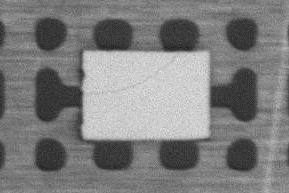DIE_CRACK: (84, 53, 176, 94)
